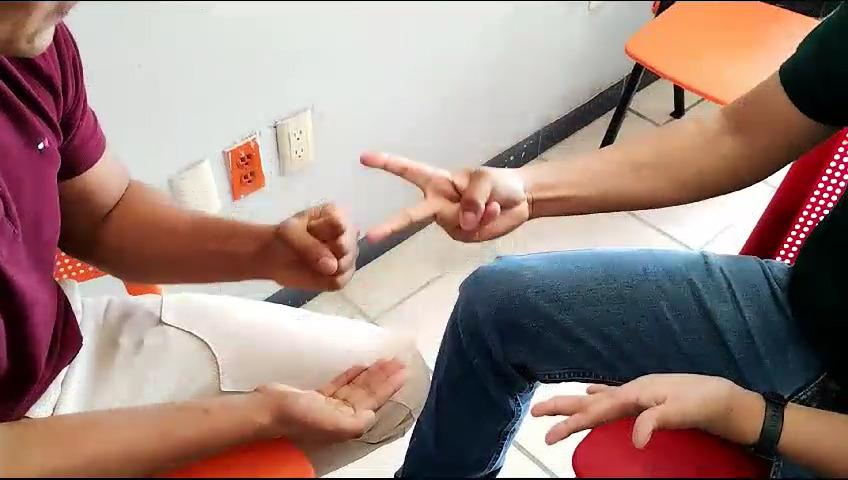Scissor: (351, 135, 551, 268)
Stone: (262, 197, 360, 299)
